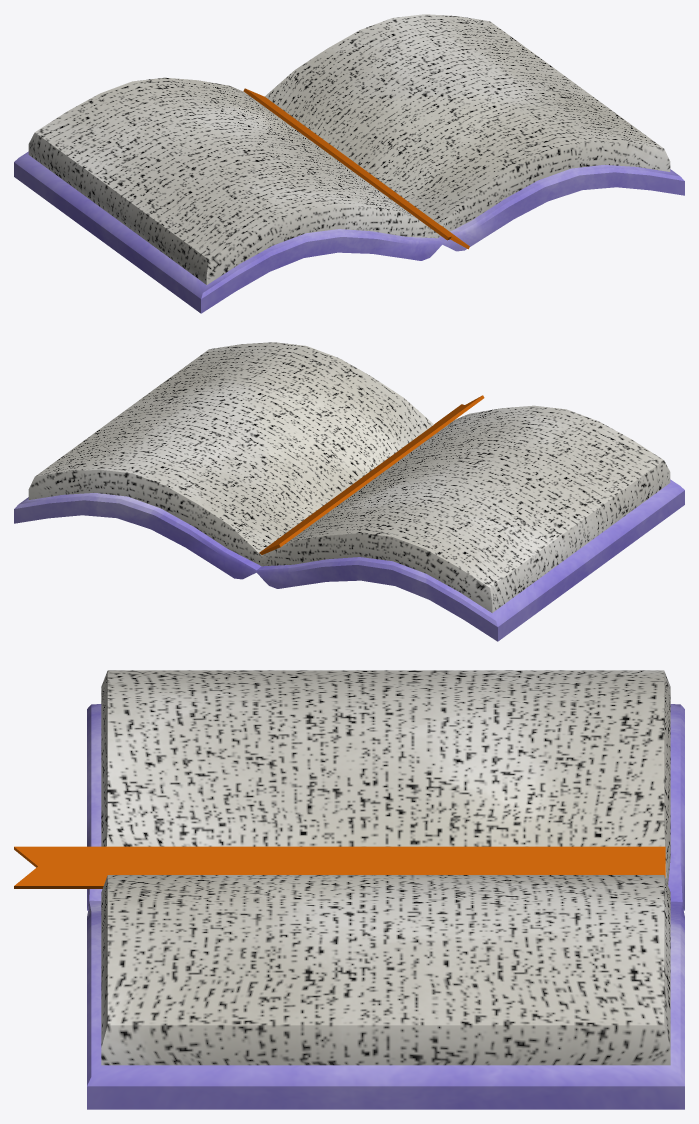
Rendered from Livro aberto.fbx.
3 renders of one model, top to bottom at view 1: azimuth 30°, elevation 25°; view 2: azimuth 150°, elevation 25°; view 3: azimuth 270°, elevation 25°, orthographic. The views are drawn at different scales.
Parts seen in each view (by area): view 1: Livro, Cube.001; view 2: Livro, Cube.001; view 3: Livro, Cube.001.
Boxes of the visible parts, bbox=[...] form: Livro: bbox=[14, 14, 684, 313]; Cube.001: bbox=[243, 88, 469, 249]; Livro: bbox=[14, 342, 684, 641]; Cube.001: bbox=[259, 395, 484, 554]; Livro: bbox=[87, 670, 684, 1109]; Cube.001: bbox=[14, 846, 665, 888].
Bounding box in the file's own units: 63.57 × 9.32 × 47.79.
